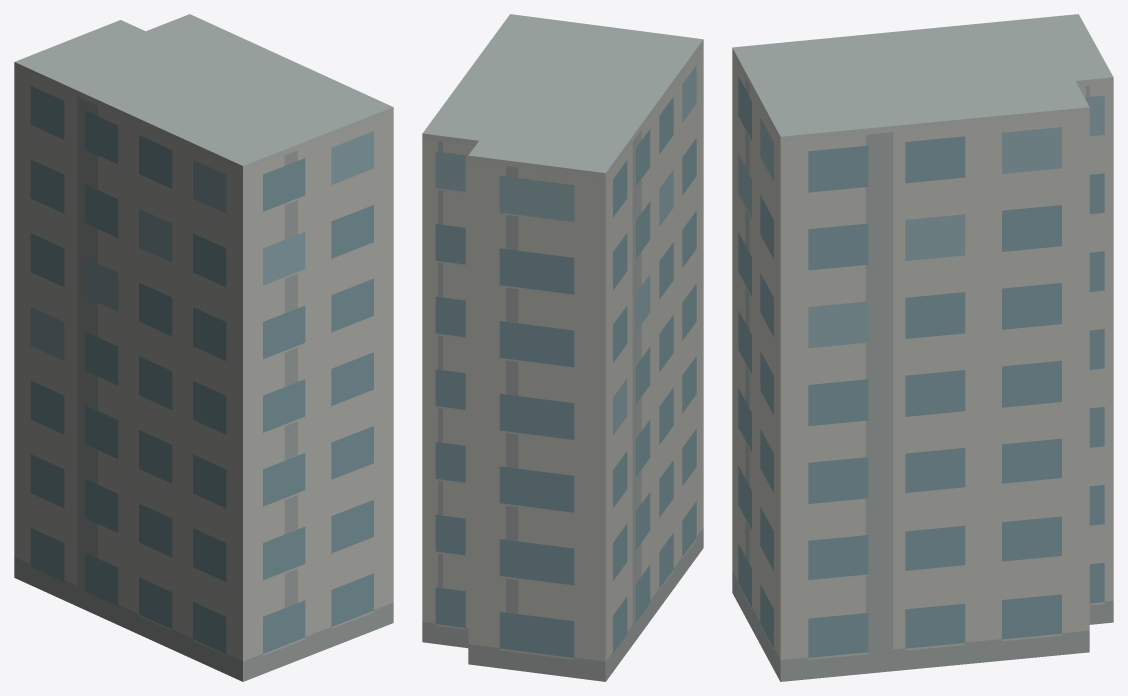
The model's file is survey-upis-32933652.glb.
3 renders of one model, left to right at view 1: azimuth 30°, elevation 25°; view 2: azimuth 150°, elevation 25°; view 3: azimuth 270°, elevation 25°, orthographic. The views are drawn at different scales.
Visible parts, largest first — view 1: survey-upis-32933652.tmp; view 2: survey-upis-32933652.tmp; view 3: survey-upis-32933652.tmp.
Boxes of the visible parts, bbox=[...] form: survey-upis-32933652.tmp: bbox=[14, 14, 393, 681]; survey-upis-32933652.tmp: bbox=[422, 14, 703, 681]; survey-upis-32933652.tmp: bbox=[732, 14, 1113, 681].
Size of the model in its own units: 10.58 by 21.9 by 13.9.
